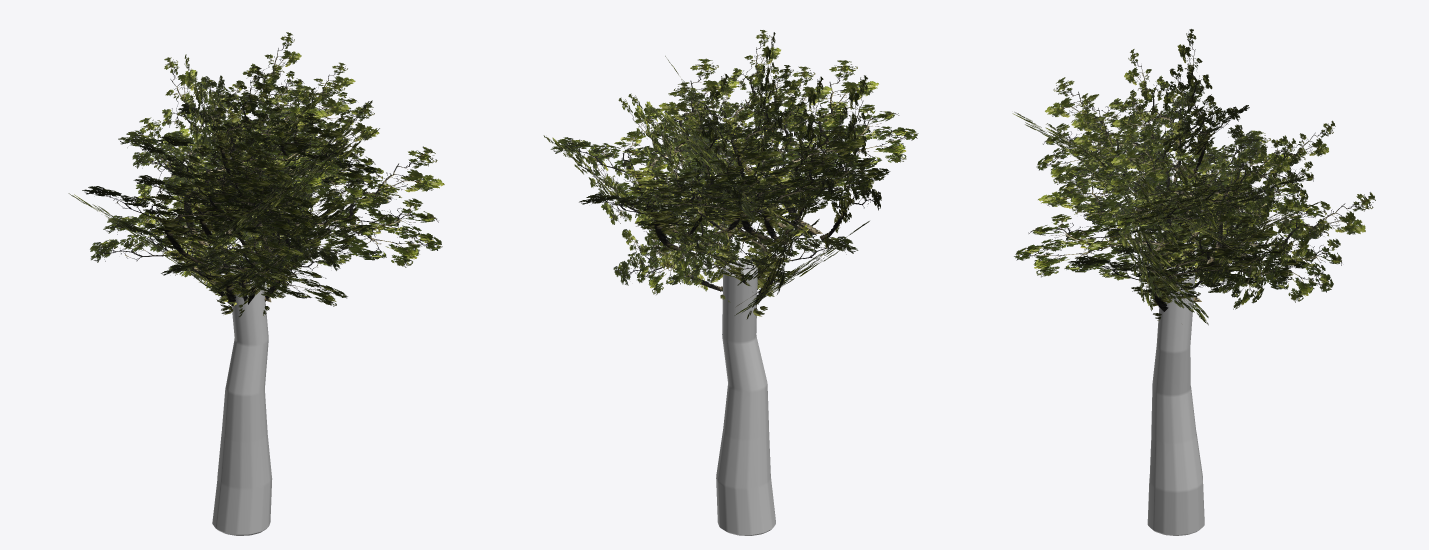
File: SM_Tree.fbx
The picture shows the model from 3 angles, left to right: view 1: azimuth 30°, elevation 25°; view 2: azimuth 150°, elevation 25°; view 3: azimuth 270°, elevation 25°; orthographic projection.
Visible parts, largest first — view 1: Branches, Tree; view 2: Branches, Tree; view 3: Branches, Tree.
Part boxes in pixels (x1,y1,x2,y2): Branches: (68,32,444,317); Tree: (212,263,272,535); Branches: (543,30,918,319); Tree: (716,261,775,535); Branches: (1012,29,1375,325); Tree: (1147,267,1204,535).
Bounding box in the file's own units: 13.49 × 15.73 × 13.36.
